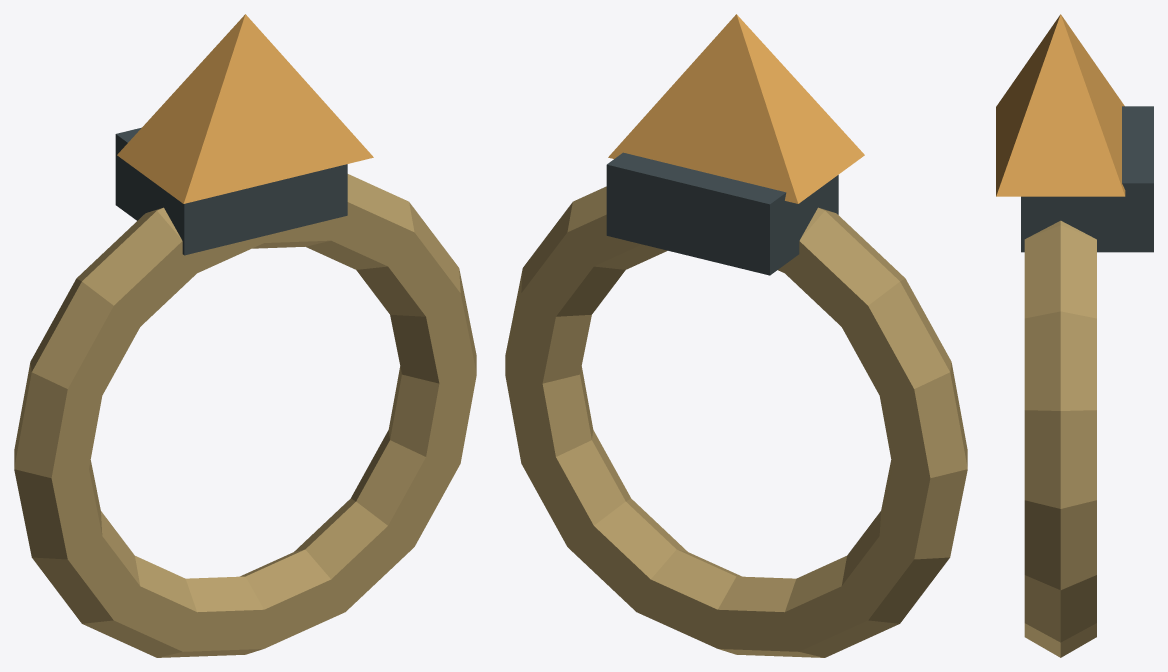
File: Equip_RingStrength.fbx
3 views of the same model, side by side, from view 1: azimuth 30°, elevation 25°; view 2: azimuth 150°, elevation 25°; view 3: azimuth 270°, elevation 25° (orthographic). The views are drawn at different scales.
Visible parts, largest first — view 1: Equip_RingStrength; view 2: Equip_RingStrength; view 3: Equip_RingStrength.
Boxes of the visible parts, <box> form: Equip_RingStrength: <box>14,14,476,657</box>; Equip_RingStrength: <box>505,14,967,657</box>; Equip_RingStrength: <box>996,14,1153,657</box>.
Size of the model in its own units: 0.136 by 0.18 by 0.0415.
